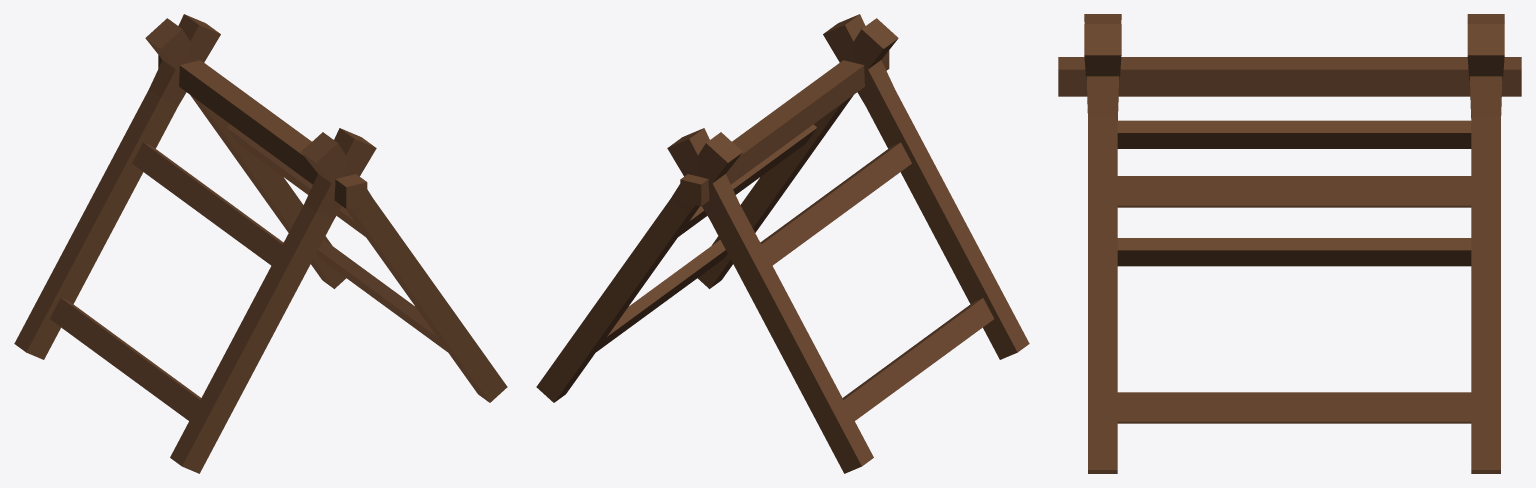
File: kenney_survival-kit__tent__cave.fbx
3 renders of one model, left to right at view 1: azimuth 30°, elevation 25°; view 2: azimuth 150°, elevation 25°; view 3: azimuth 270°, elevation 25°, orthographic. The views are drawn at different scales.
Visible parts, largest first — view 1: kenney_survival-kit__tent__cave_wood; view 2: kenney_survival-kit__tent__cave_wood; view 3: kenney_survival-kit__tent__cave_wood.
Part boxes in pixels (<box>): kenney_survival-kit__tent__cave_wood: <box>14,14,507,473</box>; kenney_survival-kit__tent__cave_wood: <box>536,14,1029,473</box>; kenney_survival-kit__tent__cave_wood: <box>1058,14,1521,473</box>.
Size of the model in its own units: 2 by 1.75 by 2.
Materials: 1 (1 with a texture image).
